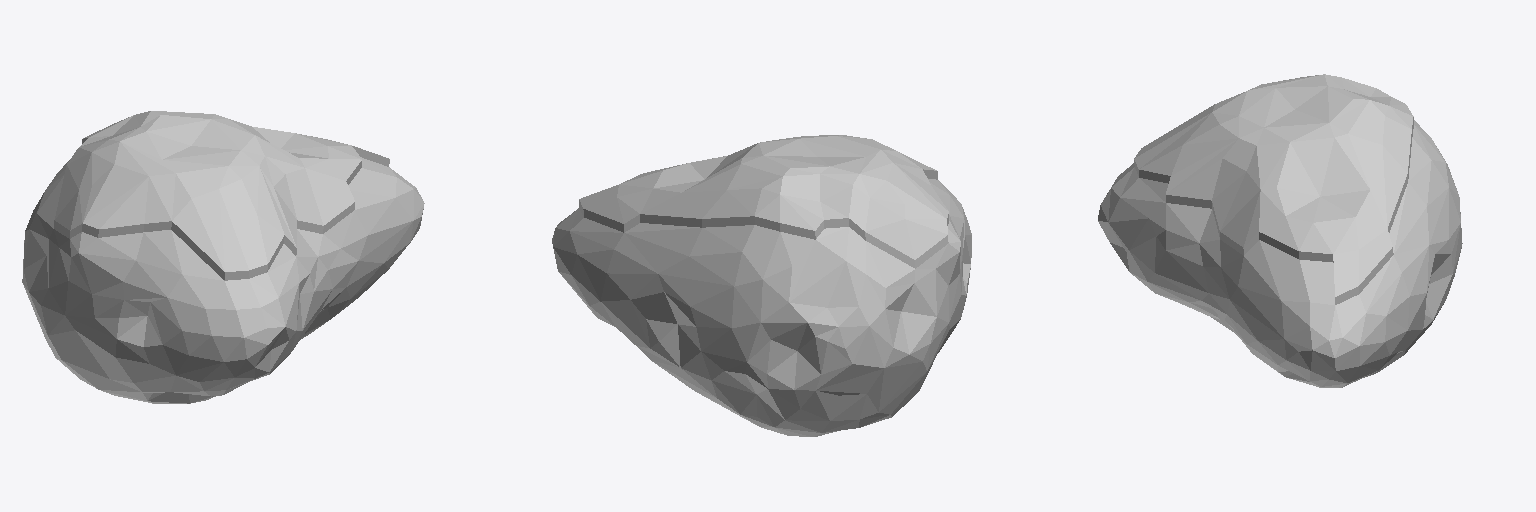
The model's file is rock2.obj.
The picture shows the model from 3 angles: view 1: azimuth 30°, elevation 25°; view 2: azimuth 150°, elevation 25°; view 3: azimuth 270°, elevation 25°; orthographic projection.
Visible parts, largest first — view 1: Rock2_Cube.006; view 2: Rock2_Cube.006; view 3: Rock2_Cube.006.
Boxes of the visible parts, box(x1,y1,x2,y2) form: Rock2_Cube.006: box(22, 111, 424, 403); Rock2_Cube.006: box(552, 135, 971, 436); Rock2_Cube.006: box(1098, 74, 1462, 387).
Size of the model in its own units: 2.74 by 1.78 by 2.29.